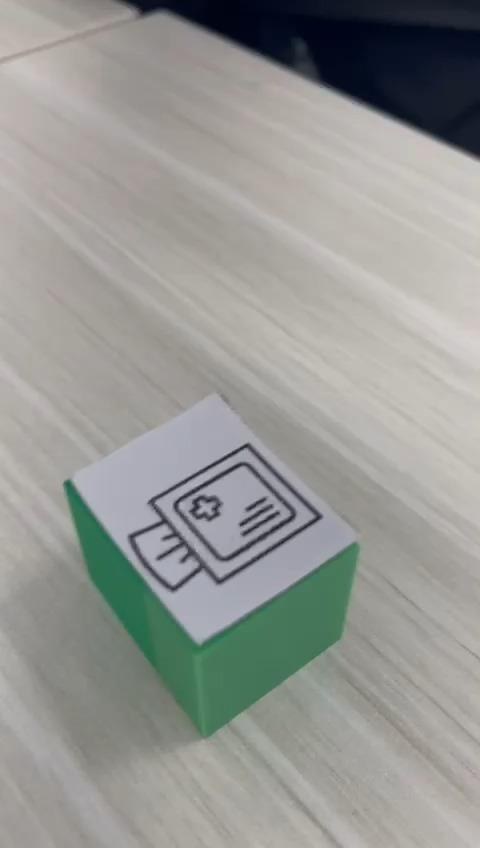Gauze: (62, 390, 361, 738)
